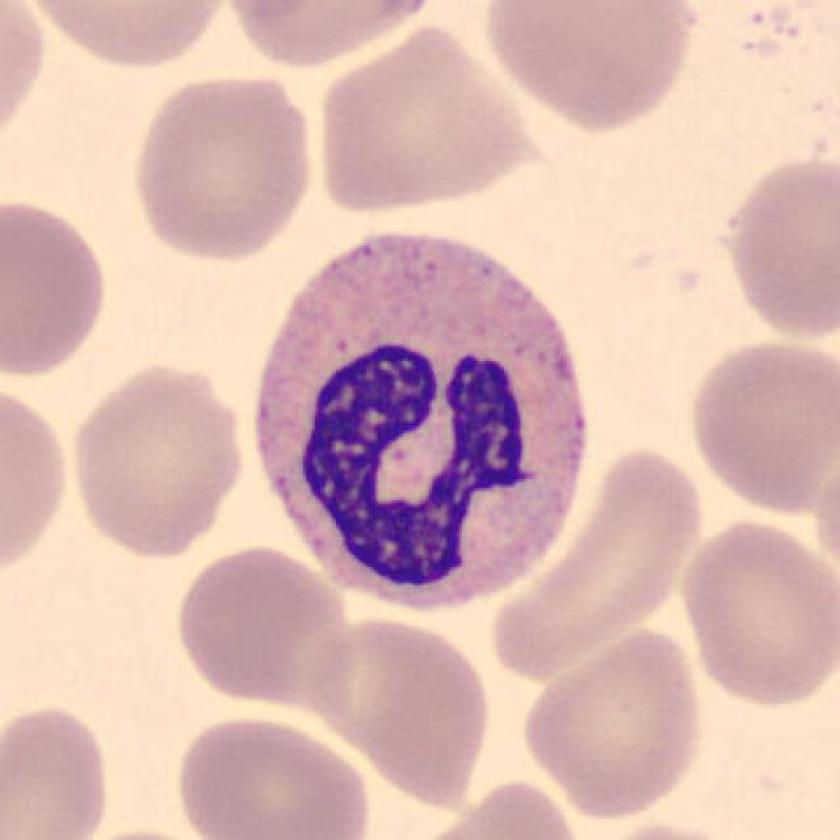neutrophil: (256, 233, 588, 609)
